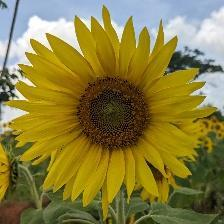sunflower: (8, 6, 218, 214)
